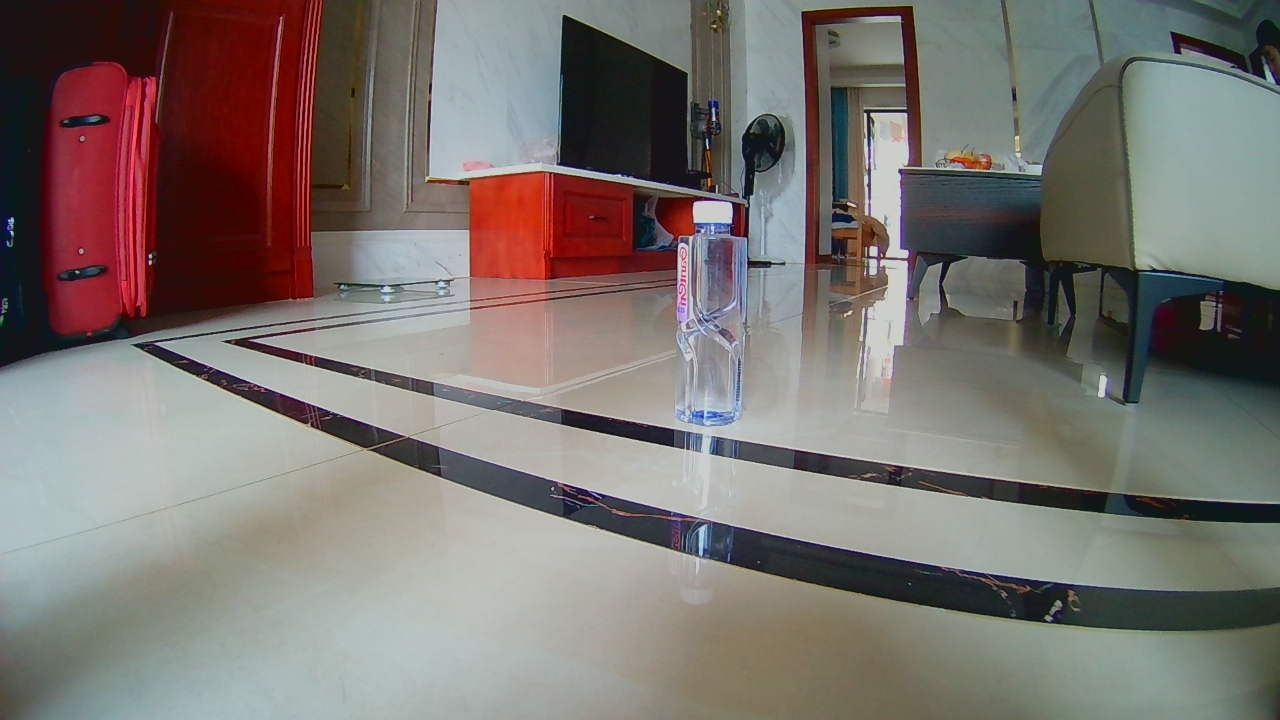water: (680, 201, 738, 423)
